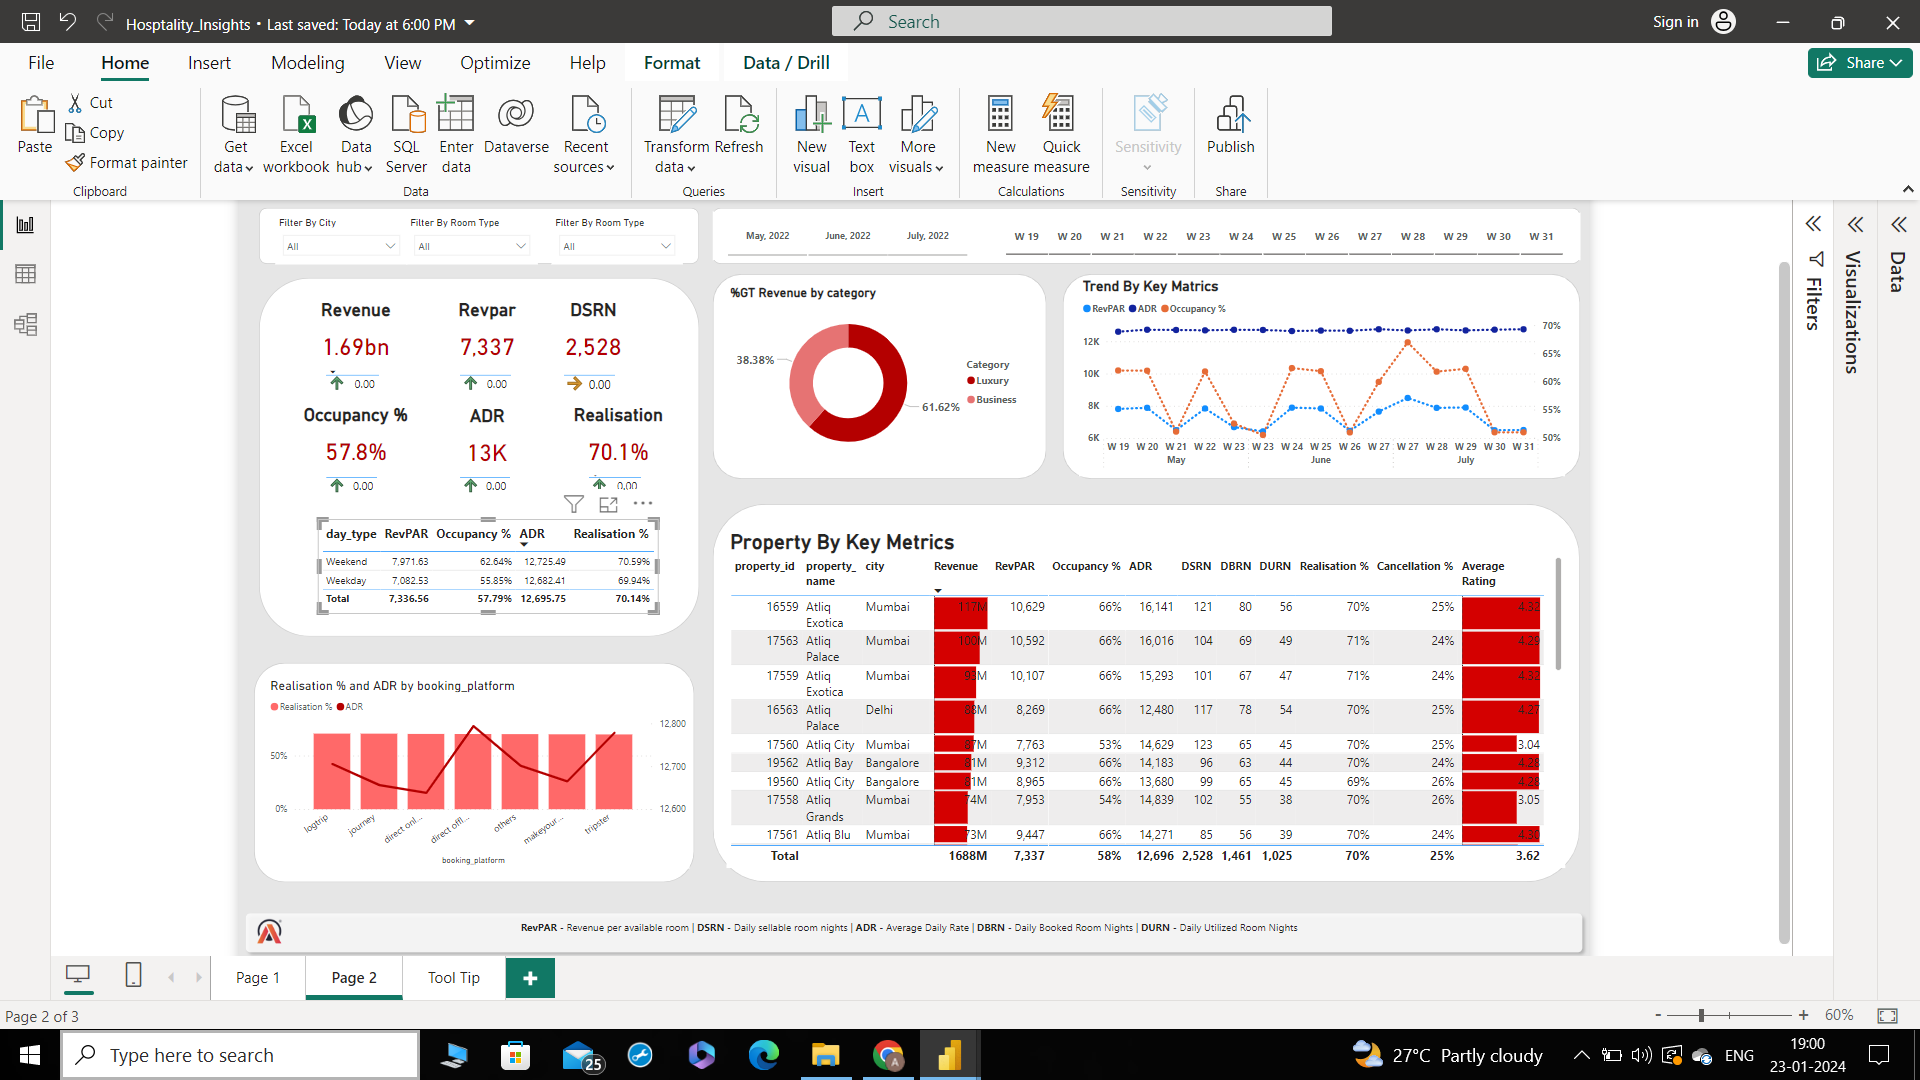

What the dashboard file says about the page in this screenshot:
{"tool":"powerbi","page":{"name":"Page 2","canvas":[1800,1100],"ordinal":1},"visuals":[{"type":"shape","box":[0,1016,1800,70],"z":0},{"type":"shape","box":[20,691.4,587.1,292.9],"z":1000},{"type":"shape","box":[632,480,1156,504],"z":2000},{"type":"shape","box":[1098.3,173.3,690,273.3],"z":3000},{"type":"shape","box":[631.7,173.3,445,273.3],"z":4000},{"type":"shape","box":[631.7,85,1156.7,75],"z":5000},{"type":"shape","box":[27.1,178.6,587.1,478.6],"z":6000},{"type":"shape","box":[26.7,85,586.7,75],"z":7000},{"type":"tableEx","title":"Property By Key Metrics","fields":{"Values":["dim_hotels.property_id","dim_hotels.property_name","dim_hotels.city","key_measures (2).Revenue","key_measures (2).RevPAR","key_measures (2).Occupancy %","key_measures (2).ADR","key_measures (2).DSRN","key_measures (2).DBRN","key_measures (2).DURN","key_measures (2).Realisation %","key_measures (2).Cancellation %"]},"box":[650,515.7,1118.6,450],"z":8000},{"type":"slicer","title":"Filter By City","fields":{"Values":["dim_hotels.city"]},"box":[48,96,176,64],"z":9000},{"type":"slicer","title":"Filter By Room Type","fields":{"Values":["dim_rooms.room_class"]},"box":[417,96,175,64],"z":10000},{"type":"slicer","fields":{"Values":["dim_date.mmm yy"]},"box":[631.7,90,358.3,65],"z":11000},{"type":"slicer","fields":{"Values":["dim_date.week no"]},"box":[996.7,91.7,791.7,63.3],"z":12000},{"type":"tableEx","fields":{"Values":["key_measures (2).\"Revenue WoW change %"]},"box":[110.8,281.5,88.5,57.7],"z":13000},{"type":"donutChart","fields":{"Category":["dim_hotels.category"],"Y":["key_measures (2).Revenue"]},"box":[650,188.3,405,241.7],"z":14000},{"type":"lineStackedColumnComboChart","fields":{"Category":["fact_bookings.booking_platform"],"Y":["key_measures (2).Realisation %"],"Y2":["key_measures (2).ADR"]},"box":[37.1,711.4,564.3,254.3],"z":15000},{"type":"lineChart","title":"Trend By Key Matrics","fields":{"Category":["dim_date.mmm yy.Variation.Date Hierarchy.Month","dim_date.week no"],"Y2":["key_measures (2).Occupancy %"],"Y":["key_measures (2).RevPAR","key_measures (2).ADR"]},"box":[1120,178.3,648.3,265],"z":16000},{"type":"tableEx","fields":{"Values":["dim_date.day_type","key_measures (2).RevPAR","key_measures (2).Occupancy %","key_measures (2).ADR","key_measures (2).Realisation %"]},"box":[105,500,455,126.7],"z":17000},{"type":"slicer","title":"Filter By Room Type","fields":{"Values":["dim_rooms.room_class"]},"box":[224,96,175,64],"z":18000},{"type":"image","box":[0,1028,81.3,42.7],"z":20000},{"type":"textbox","box":[345,1029.6,1093.6,39],"z":21000},{"type":"tableEx","fields":{"Values":["key_measures (2).\"DSRN WoW change %"]},"box":[426.9,281.5,88.5,56.2],"z":22000},{"type":"tableEx","fields":{"Values":["key_measures (2).\"Revpar WoW change %"]},"box":[287.7,281.5,89.2,55.4],"z":23000},{"type":"card","title":"DSRN","fields":{"Values":["key_measures (2).DSRN"]},"box":[384.3,206.8,175,95],"z":24000},{"type":"card","title":"Revpar","fields":{"Values":["key_measures (2).RevPAR"]},"box":[242.7,206.5,175,95],"z":25000},{"type":"card","title":"Revenue","fields":{"Values":["key_measures (2).Revenue"]},"box":[67.7,206.5,175,95],"z":26000},{"type":"tableEx","fields":{"Values":["key_measures (2).\"Occupancy WoW change %"]},"box":[110.8,417.7,88.5,57.7],"z":27000},{"type":"card","title":"Occupancy %","fields":{"Values":["key_measures (2).Occupancy %"]},"box":[67.7,347.5,175,95],"z":28000},{"type":"tableEx","fields":{"Values":["key_measures (2).\"ADR WoW change %"]},"box":[287.7,417.7,88.5,57.7],"z":29000},{"type":"tableEx","fields":{"Values":["key_measures (2).\"Revenue WoW change %"]},"box":[460,418.5,88.5,57.7],"z":30000},{"type":"card","title":"ADR","fields":{"Values":["key_measures (2).ADR"]},"box":[242.7,348.5,175,95],"z":31000},{"type":"card","title":"Realisation","fields":{"Values":["key_measures (2).Realisation %"]},"box":[417.7,347.5,175,95],"z":31500}]}

Visuals, with their boxes on the page's 1800x1100 design canvas (x1, y1, x2, y2). These are canvas units, not pixel positions in the 1920x1080 screenshot, which may show the page scaled, cropped or inside an application window:
shape: bbox(0, 1016, 1800, 1086)
shape: bbox(20, 691, 607, 984)
shape: bbox(632, 480, 1788, 984)
shape: bbox(1098, 173, 1788, 447)
shape: bbox(632, 173, 1077, 447)
shape: bbox(632, 85, 1788, 160)
shape: bbox(27, 179, 614, 657)
shape: bbox(27, 85, 613, 160)
"Property By Key Metrics" tableEx: bbox(650, 516, 1769, 966)
"Filter By City" slicer: bbox(48, 96, 224, 160)
"Filter By Room Type" slicer: bbox(417, 96, 592, 160)
slicer - dim_date.mmm yy: bbox(632, 90, 990, 155)
slicer - dim_date.week no: bbox(997, 92, 1788, 155)
tableEx - key_measures (2)."Revenue WoW change %: bbox(111, 282, 199, 339)
donutChart - dim_hotels.category x key_measures (2).Revenue: bbox(650, 188, 1055, 430)
lineStackedColumnComboChart - fact_bookings.booking_platform x key_measures (2).Realisation %: bbox(37, 711, 601, 966)
"Trend By Key Matrics" lineChart: bbox(1120, 178, 1768, 443)
tableEx - dim_date.day_type x key_measures (2).RevPAR: bbox(105, 500, 560, 627)
"Filter By Room Type" slicer: bbox(224, 96, 399, 160)
image: bbox(0, 1028, 81, 1071)
textbox: bbox(345, 1030, 1439, 1069)
tableEx - key_measures (2)."DSRN WoW change %: bbox(427, 282, 515, 338)
tableEx - key_measures (2)."Revpar WoW change %: bbox(288, 282, 377, 337)
"DSRN" card: bbox(384, 207, 559, 302)
"Revpar" card: bbox(243, 206, 418, 302)
"Revenue" card: bbox(68, 206, 243, 302)
tableEx - key_measures (2)."Occupancy WoW change %: bbox(111, 418, 199, 475)
"Occupancy %" card: bbox(68, 348, 243, 442)
tableEx - key_measures (2)."ADR WoW change %: bbox(288, 418, 376, 475)
tableEx - key_measures (2)."Revenue WoW change %: bbox(460, 418, 548, 476)
"ADR" card: bbox(243, 348, 418, 444)
"Realisation" card: bbox(418, 348, 593, 442)
